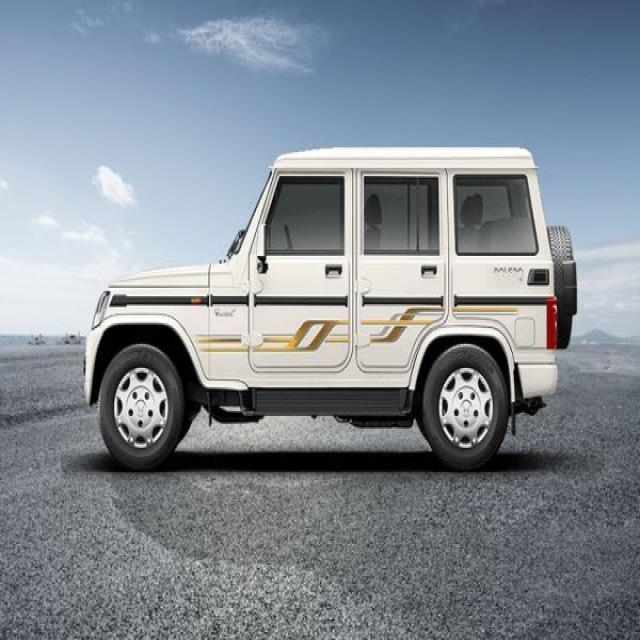light_vehicle: (71, 144, 580, 472)
